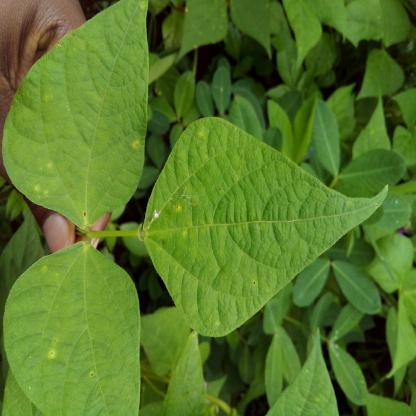Beans_Rust: (140, 118, 382, 335), (0, 0, 148, 220), (0, 241, 144, 415)
